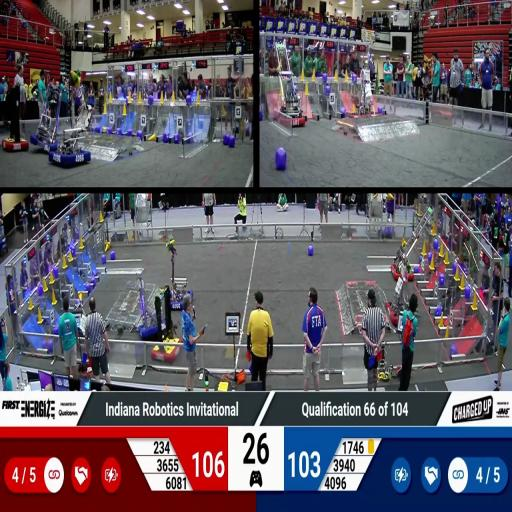robot: (392, 202, 434, 280), (272, 40, 306, 128), (30, 75, 63, 154), (152, 286, 184, 364), (384, 253, 418, 325), (163, 235, 194, 311), (135, 275, 168, 338), (1, 88, 32, 155), (50, 126, 92, 168), (351, 67, 382, 119)
